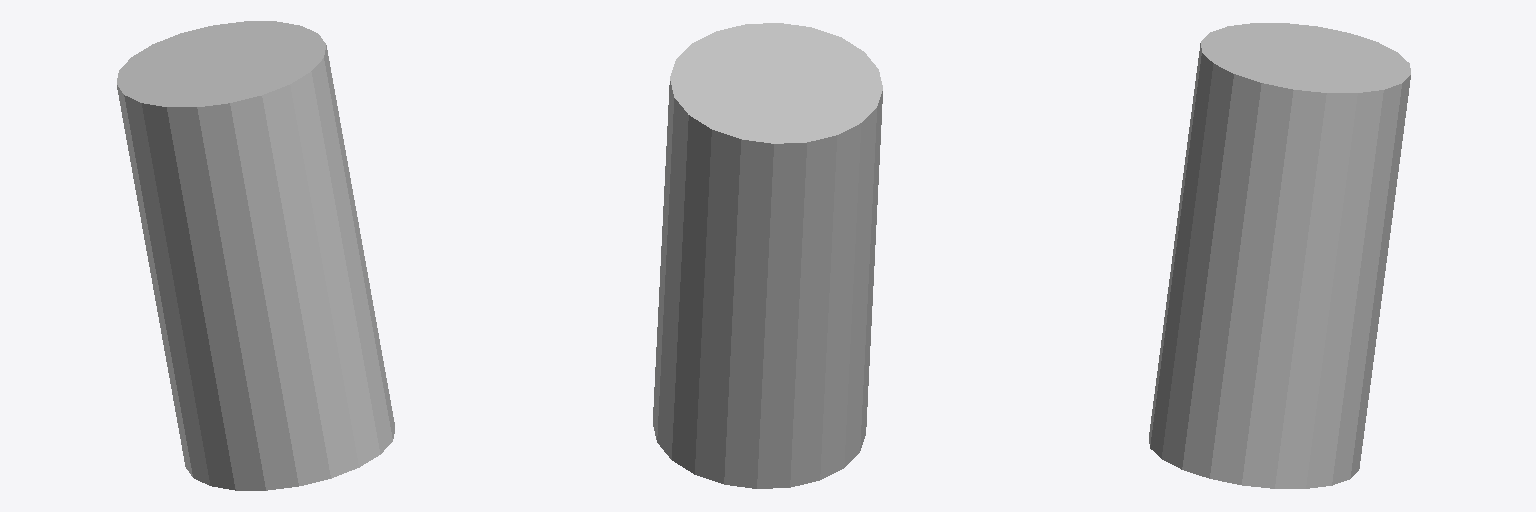
File: 2midph_skin.obj
3 views of the same model, side by side, from view 1: azimuth 30°, elevation 25°; view 2: azimuth 150°, elevation 25°; view 3: azimuth 270°, elevation 25° (orthographic).
Size of the model in its own units: 0.0132 by 0.0228 by 0.0133.